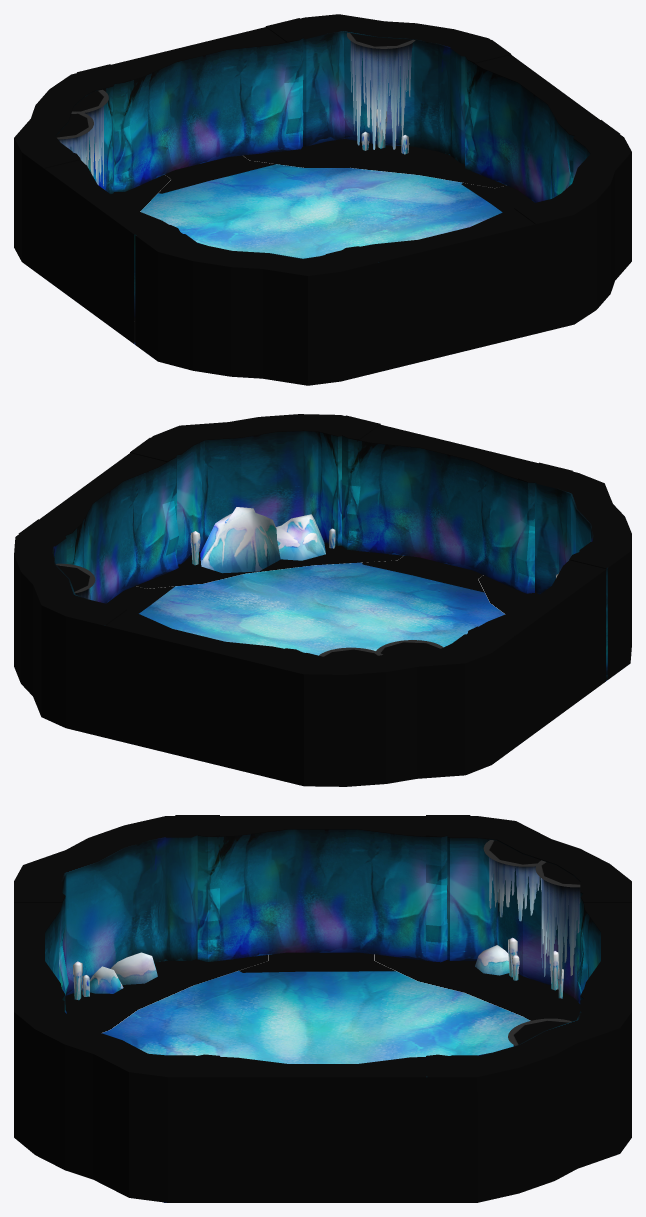
The model's file is Dungeon_072_StartRoom_001_Ev.fbx.
3 renders of one model, top to bottom at view 1: azimuth 30°, elevation 25°; view 2: azimuth 150°, elevation 25°; view 3: azimuth 270°, elevation 25°, orthographic. The views are drawn at different scales.
Parts seen in each view (by area): view 1: Dun_072_Door_002 (×4), Dun_072_StartRoom_002_wall, Dun_072_StartRoom_002_ground, Dun_072_OB_Icicle, Dun_072_StartRoom_002_shadow, Dun_072_Door_002_shadow (×2), Dun_072_OB_Ice_crystals01; view 2: Dun_072_Door_002 (×4), Dun_072_StartRoom_002_wall, Dun_072_StartRoom_002_ground, Dun_072_OB_Stone02, Dun_072_StartRoom_002_shadow, Dun_072_Door_002_shadow (×2), Dun_072_OB_Icicle; view 3: Dun_072_StartRoom_002_wall, Dun_072_Door_002 (×4), Dun_072_StartRoom_002_ground, Dun_072_StartRoom_002_shadow, Dun_072_OB_Icicle, Dun_072_OB_Stone01, Dun_072_Door_002_shadow, Dun_072_OB_Ice_crystals01.
Boxes of the visible parts, <box> form: Dun_072_Door_002 (×4): <box>25,18,619,371</box>; Dun_072_StartRoom_002_wall: <box>14,14,631,385</box>; Dun_072_StartRoom_002_ground: <box>134,164,502,344</box>; Dun_072_OB_Icicle: <box>55,32,415,186</box>; Dun_072_StartRoom_002_shadow: <box>111,139,505,342</box>; Dun_072_Door_002_shadow (×2): <box>158,155,534,212</box>; Dun_072_OB_Ice_crystals01: <box>361,109,409,154</box>; Dun_072_Door_002 (×4): <box>18,415,625,776</box>; Dun_072_StartRoom_002_wall: <box>14,414,631,786</box>; Dun_072_StartRoom_002_ground: <box>139,562,607,680</box>; Dun_072_OB_Stone02: <box>200,507,325,573</box>; Dun_072_StartRoom_002_shadow: <box>136,542,606,678</box>; Dun_072_Door_002_shadow (×2): <box>106,556,484,613</box>; Dun_072_OB_Icicle: <box>56,563,443,658</box>; Dun_072_StartRoom_002_wall: <box>14,816,631,1202</box>; Dun_072_Door_002 (×4): <box>14,815,631,1202</box>; Dun_072_StartRoom_002_ground: <box>102,971,530,1202</box>; Dun_072_StartRoom_002_shadow: <box>65,954,580,1032</box>; Dun_072_OB_Icicle: <box>483,840,580,1046</box>; Dun_072_OB_Stone01: <box>90,945,509,993</box>; Dun_072_Door_002_shadow: <box>239,952,395,972</box>; Dun_072_OB_Ice_crystals01: <box>73,937,563,1000</box>.
Size of what is drawn, in the model's own units: 9 by 2.08 by 9.
